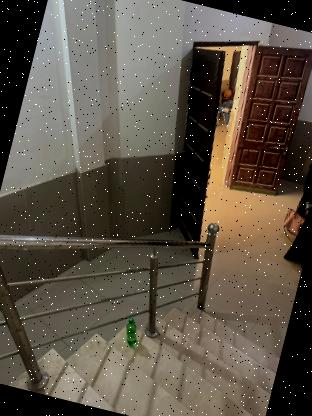door: (0, 250, 290, 416), (140, 15, 312, 267)
